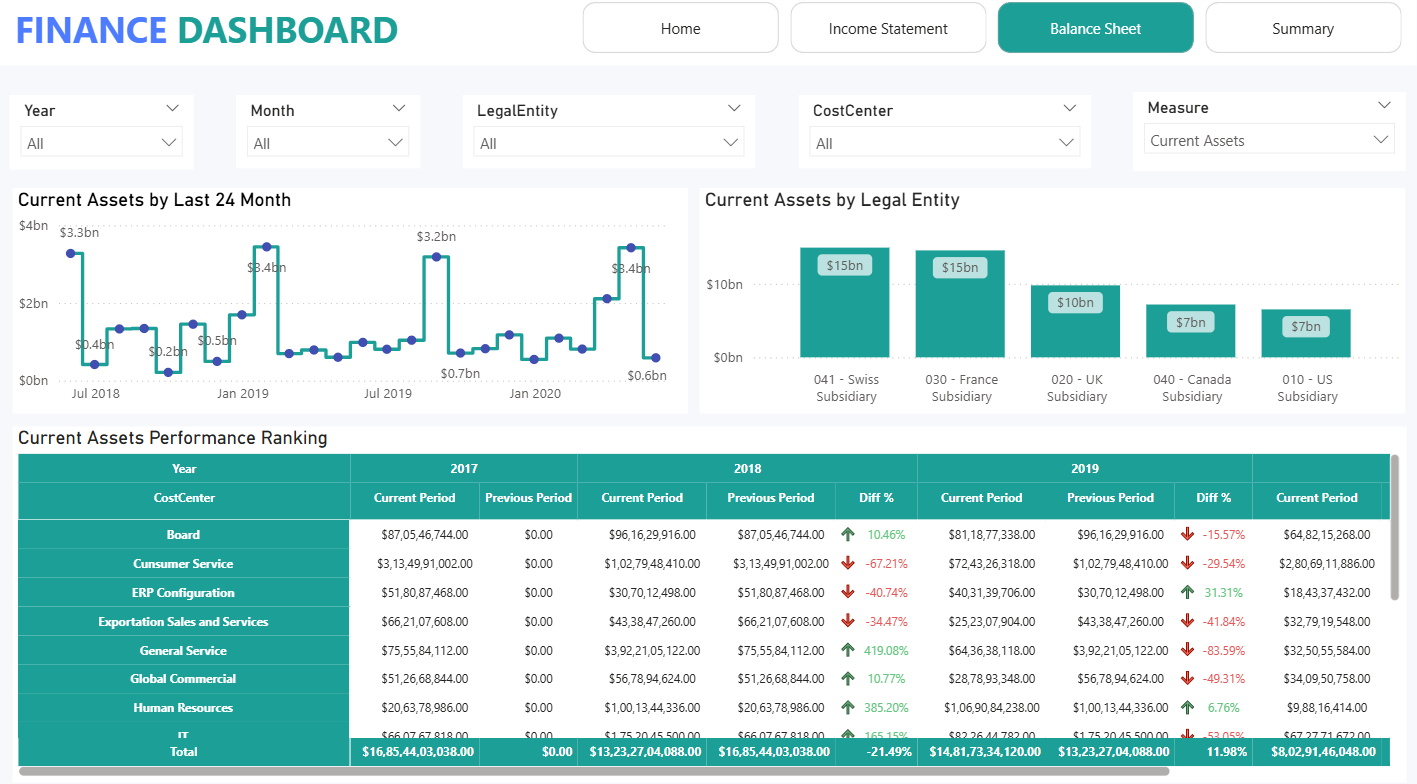

The page's visual inventory and layout, read from the dashboard file:
{"tool":"powerbi","page":{"name":"Balance Sheet","canvas":[1280,720],"ordinal":2},"visuals":[{"type":"pivotTable","fields":{"Rows":["CostCenter.CostCenter"],"Columns":["DimDate.Year","TimeCal.Name"],"Values":["DAX Measures.Base Measure"]},"box":[15.1,390,1255.3,320],"z":0},{"type":"slicer","fields":{"Values":["Balance Sheet.Name"]},"box":[1024.5,89.2,245.8,71.4],"z":1000},{"type":"lineStackedColumnComboChart","fields":{"Category":["LegalEntity.LegalEntity"],"Y":["DAX Measures.Base Measure"]},"box":[634.5,175.8,635.9,203.3],"z":2000},{"type":"lineChart","fields":{"Category":["FactFinancial.Date"],"Y":["DAX Measures.Base Measure"]},"box":[15.1,175.8,608.4,203.3],"z":3000},{"type":"slicer","fields":{"Values":["DimDate.Year"]},"box":[12.4,91.3,166,67.3],"z":4000},{"type":"slicer","fields":{"Values":["DimDate.MonthName"]},"box":[216.5,92,166,65.9],"z":5000},{"type":"slicer","fields":{"Values":["LegalEntity.LegalEntity"]},"box":[420.6,91.9,264,66],"z":6000},{"type":"slicer","fields":{"Values":["CostCenter.CostCenter"]},"box":[722.7,92,263.7,65.9],"z":7000},{"type":"actionButton","box":[598.2,21.5,109.9,38.2],"z":8000},{"type":"actionButton","box":[745.1,21.5,169.6,38.2],"z":9000},{"type":"actionButton","box":[1109.3,21.5,140.9,38.2],"z":10000},{"type":"actionButton","box":[934.9,21.5,157.6,38.2],"z":11000},{"type":"actionButton","box":[1119.3,31.5,140.9,38.2],"z":12000},{"type":"shape","box":[0,0,1280,65],"z":13000},{"type":"textbox","box":[12,5,368,55],"z":14000},{"type":"pageNavigator","box":[528,8,740,46],"z":15000}]}

Visuals, with their boxes in screenshot pixels (x1, y1, x2, y2), scaled from the page's 1280x720 canvas onto the 1417x784 screenshot:
pivotTable - CostCenter.CostCenter x DimDate.Year: [left=17, top=425, right=1406, bottom=773]
slicer - Balance Sheet.Name: [left=1134, top=97, right=1406, bottom=175]
lineStackedColumnComboChart - LegalEntity.LegalEntity x DAX Measures.Base Measure: [left=702, top=191, right=1406, bottom=413]
lineChart - FactFinancial.Date x DAX Measures.Base Measure: [left=17, top=191, right=690, bottom=413]
slicer - DimDate.Year: [left=14, top=99, right=197, bottom=173]
slicer - DimDate.MonthName: [left=240, top=100, right=423, bottom=172]
slicer - LegalEntity.LegalEntity: [left=466, top=100, right=758, bottom=172]
slicer - CostCenter.CostCenter: [left=800, top=100, right=1092, bottom=172]
actionButton: [left=662, top=23, right=784, bottom=65]
actionButton: [left=825, top=23, right=1013, bottom=65]
actionButton: [left=1228, top=23, right=1384, bottom=65]
actionButton: [left=1035, top=23, right=1209, bottom=65]
actionButton: [left=1239, top=34, right=1395, bottom=76]
shape: [left=0, top=0, right=1416, bottom=71]
textbox: [left=13, top=5, right=421, bottom=65]
pageNavigator: [left=585, top=9, right=1404, bottom=59]
